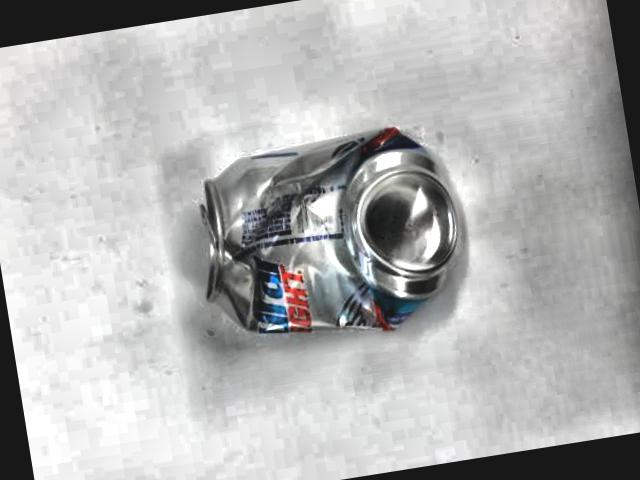Bottles: (175, 83, 506, 369)
